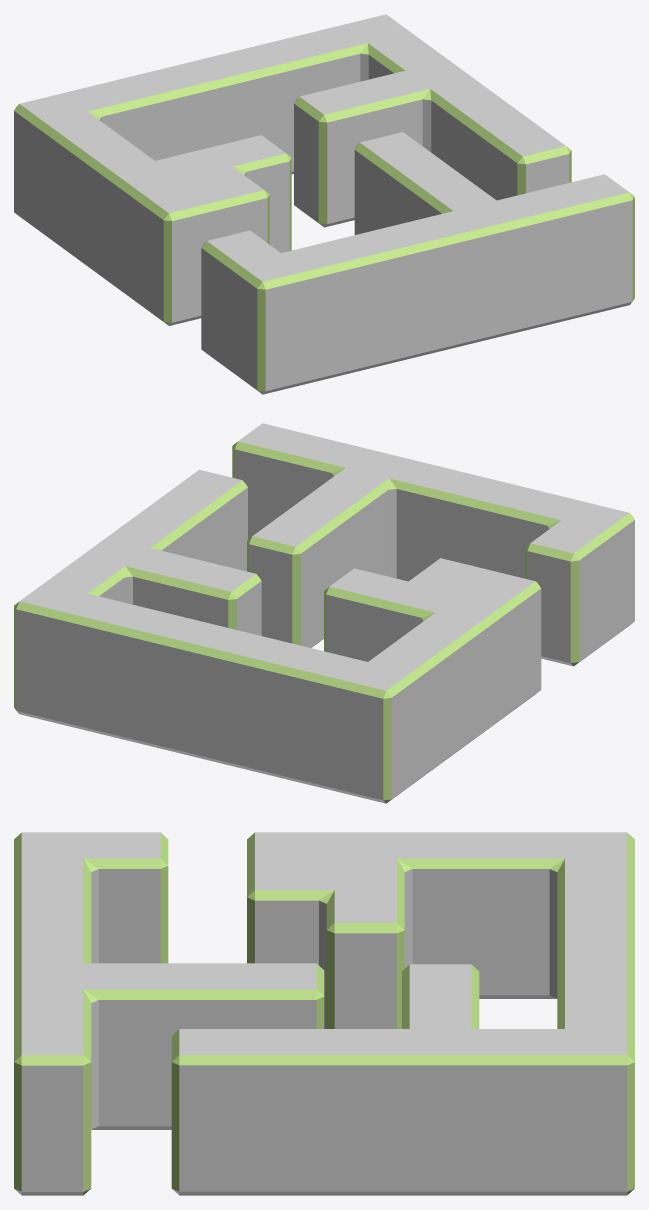
File: Lvl6 (1).fbx
3 views of the same model, one above another, from view 1: azimuth 30°, elevation 25°; view 2: azimuth 150°, elevation 25°; view 3: azimuth 270°, elevation 25° (orthographic). The views are drawn at different scales.
Parts seen in each view (by area): view 1: Lvl9; view 2: Lvl9; view 3: Lvl9.
Boxes of the visible parts, x1=… form: Lvl9: x1=14, y1=14, x2=634, y2=394; Lvl9: x1=14, y1=423, x2=634, y2=803; Lvl9: x1=14, y1=832, x2=634, y2=1195.
Size of the model in its own units: 6.99 by 1.99 by 7.99.
